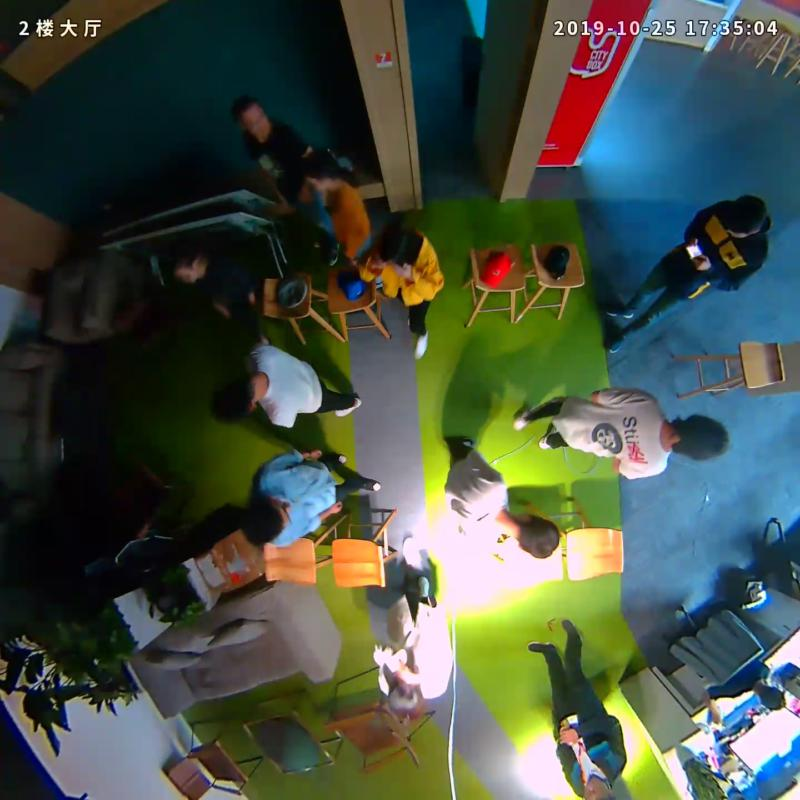head: (239, 496, 294, 547), (211, 373, 264, 425), (673, 413, 729, 461), (379, 220, 424, 270), (719, 194, 769, 239), (514, 512, 560, 559), (387, 664, 424, 720), (234, 93, 274, 142), (302, 148, 343, 195), (168, 239, 209, 284), (581, 772, 615, 800)
